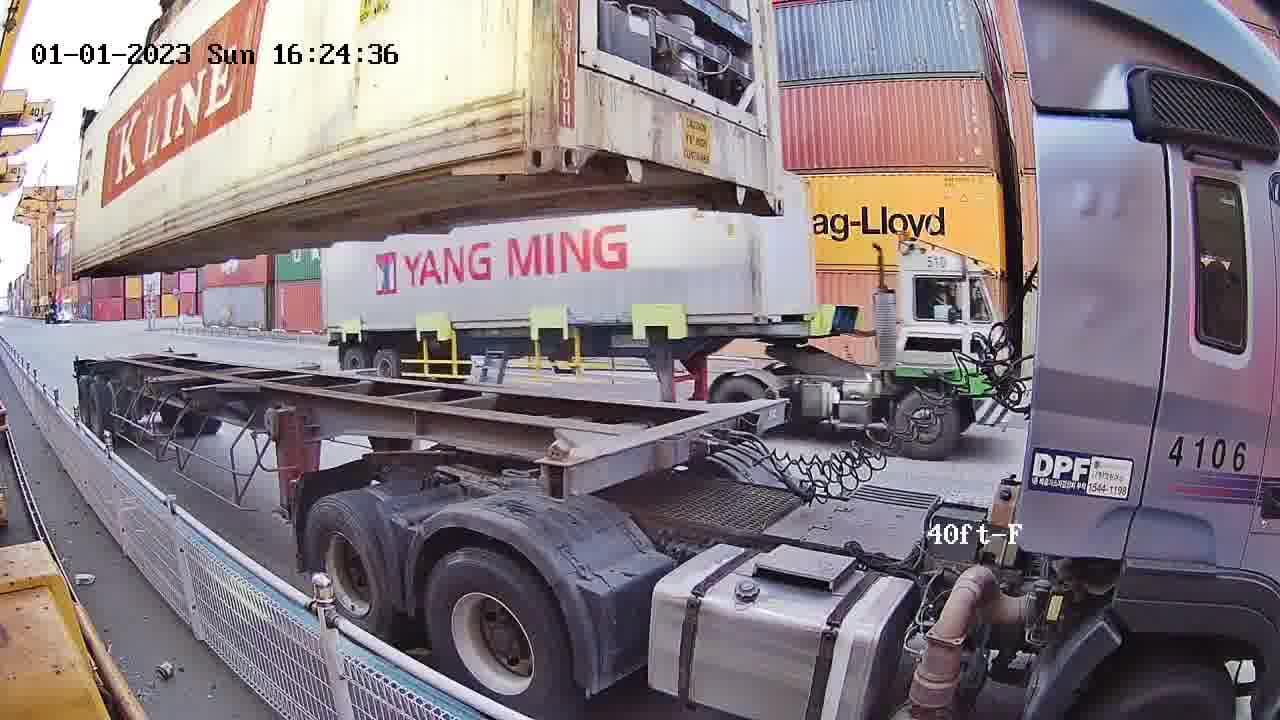Chassis: (538, 397, 788, 496)
Cone: (540, 438, 573, 503)
Hole_L: (555, 105, 608, 174)
Hole_R: (496, 104, 553, 172), (752, 169, 783, 218)
Tire: (423, 553, 566, 713), (304, 500, 392, 636)
